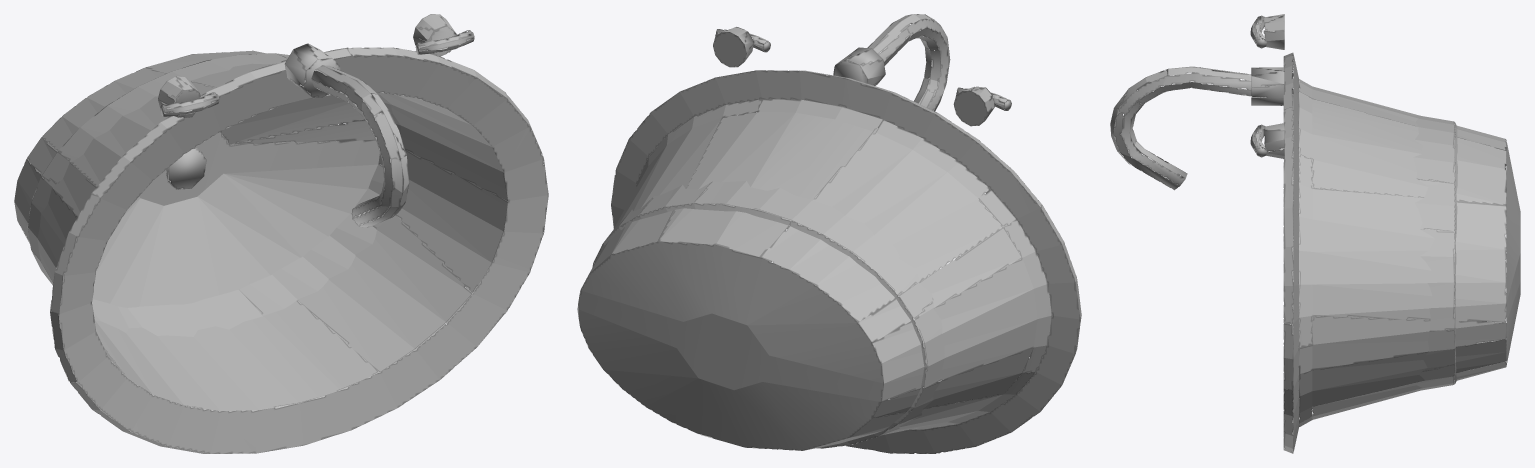
Rendered from pz_sink_inset_white.obj.
3 renders of one model, left to right at view 1: azimuth 30°, elevation 25°; view 2: azimuth 150°, elevation 25°; view 3: azimuth 270°, elevation 25°, orthographic. The views are drawn at different scales.
Size of the model in its own units: 0.526 by 0.4123 by 0.4296.
1 material, 1 textured.
